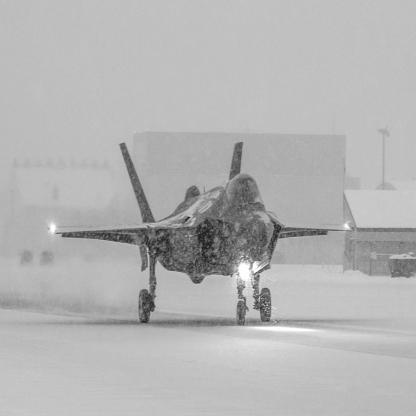F35: (48, 143, 354, 327)
